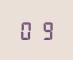nine: (36, 20, 52, 40)
zero: (19, 20, 35, 40)
